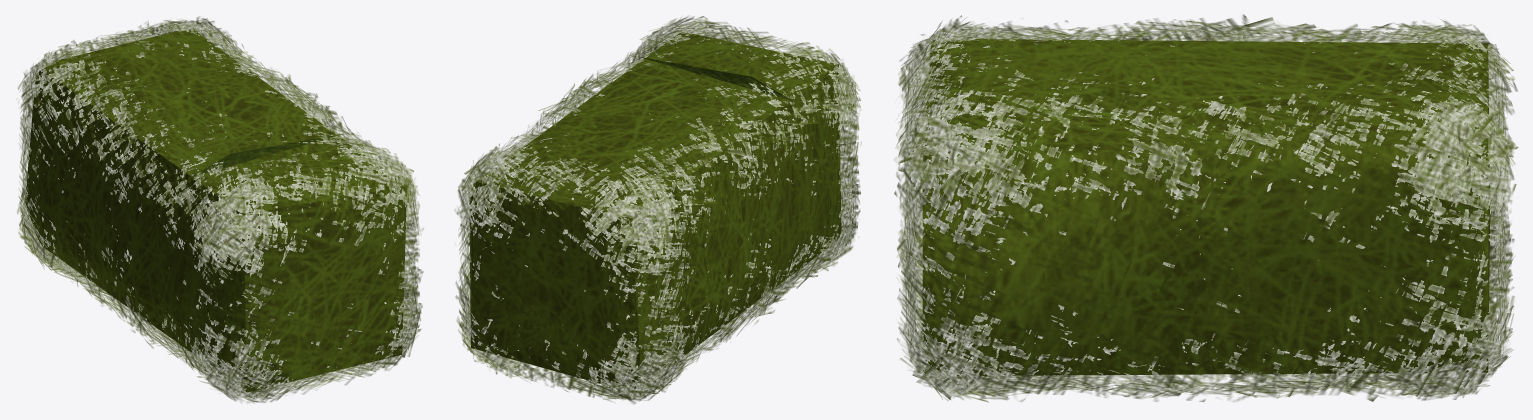
Rendered from realfodder.glb.
3 views of the same model, side by side, from view 1: azimuth 30°, elevation 25°; view 2: azimuth 150°, elevation 25°; view 3: azimuth 270°, elevation 25° (orthographic). The views are drawn at different scales.
Parts seen in each view (by area): view 1: Hay_bale_latest:Hay; view 2: Hay_bale_latest:Hay; view 3: Hay_bale_latest:Hay.
Boxes of the visible parts, left/top/right/bottom form: Hay_bale_latest:Hay: left=17, top=16, right=423, bottom=403; Hay_bale_latest:Hay: left=455, top=16, right=861, bottom=403; Hay_bale_latest:Hay: left=894, top=14, right=1518, bottom=402.
Size of the model in its own units: 0.4925 by 0.4891 by 0.9.
1 material, 1 textured.
